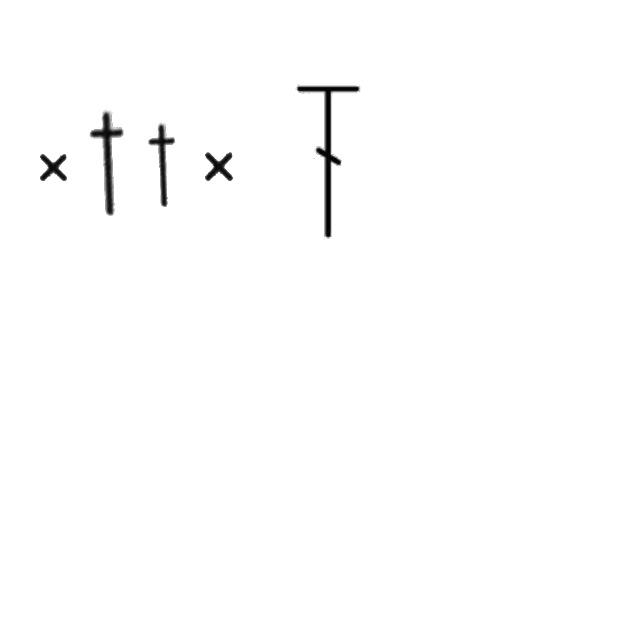chain: (294, 80, 364, 244)
double: (77, 110, 141, 218), (138, 122, 190, 210)
slip_stitch: (202, 148, 236, 184), (38, 150, 70, 184)
